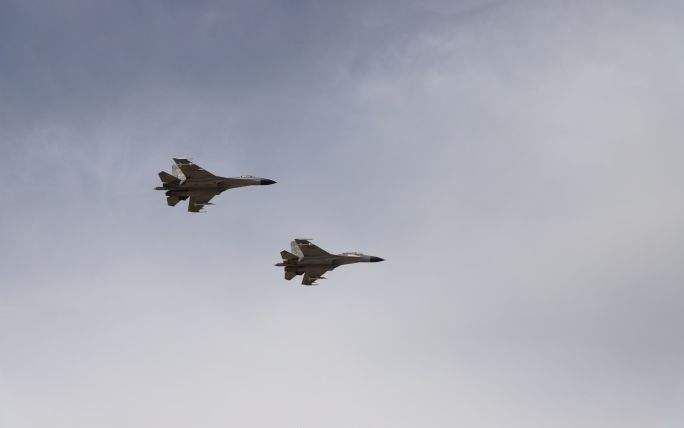airplane: (144, 155, 273, 214), (269, 230, 387, 294)
